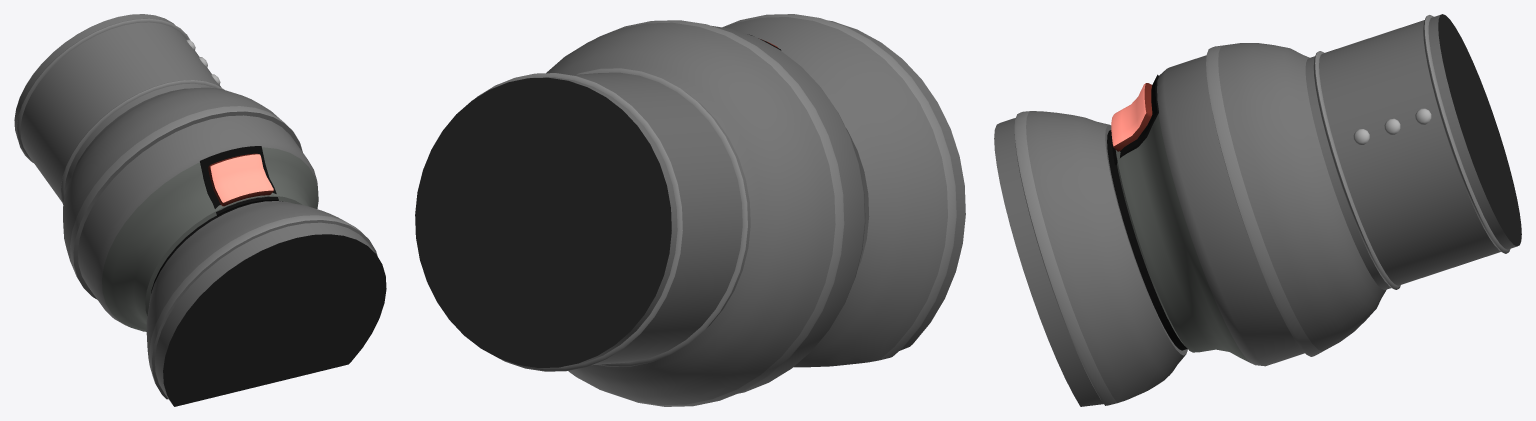
File: red_tower_shaft.glb
3 renders of one model, left to right at view 1: azimuth 30°, elevation 25°; view 2: azimuth 150°, elevation 25°; view 3: azimuth 270°, elevation 25°, orthographic. The views are drawn at different scales.
Visible parts, largest first — view 1: red_tower_shaft; view 2: red_tower_shaft; view 3: red_tower_shaft.
Part boxes in pixels (x1,y1,x2,y2): red_tower_shaft: (14, 14, 386, 406); red_tower_shaft: (415, 14, 965, 406); red_tower_shaft: (994, 14, 1521, 406).
Bounding box in the file's own units: 18.64 × 20.72 × 30.2.
